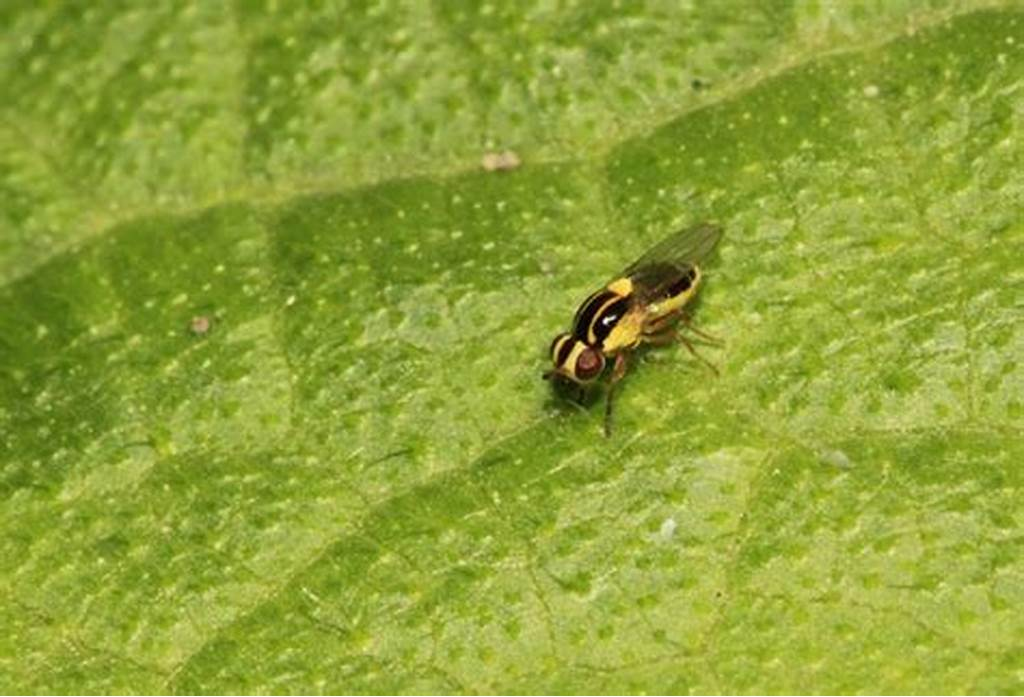Chloropidae: (538, 226, 726, 435)
